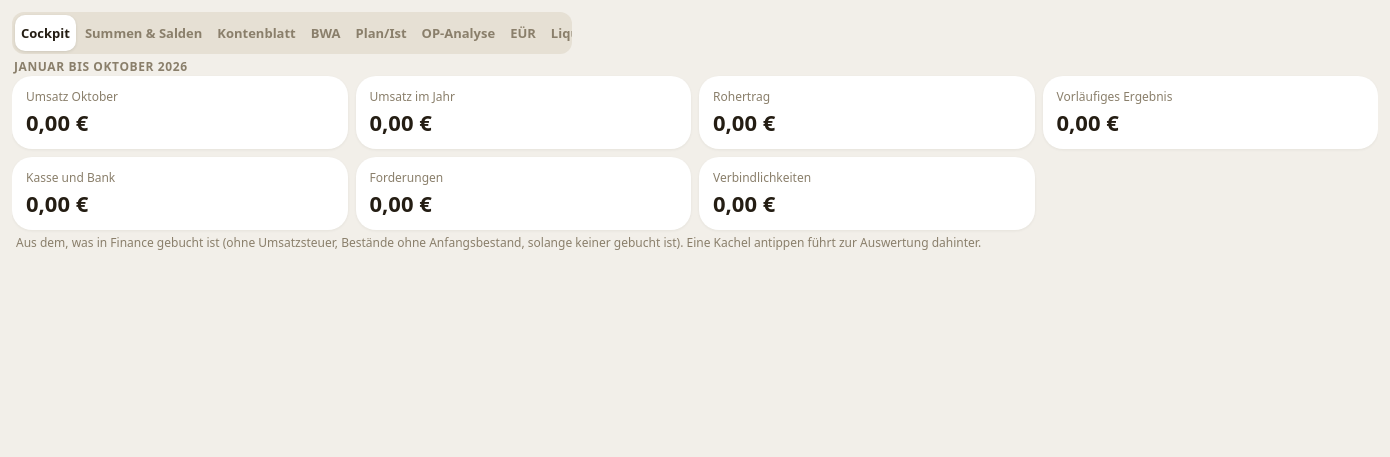
FinanceAuswertungen › mit Vorjahr: Werte und Abweichung
The width and height of the screenshot is (1390, 457).
Step 1. Click the tab "Summen & Salden" → (144, 33), box [79,15,208,51]
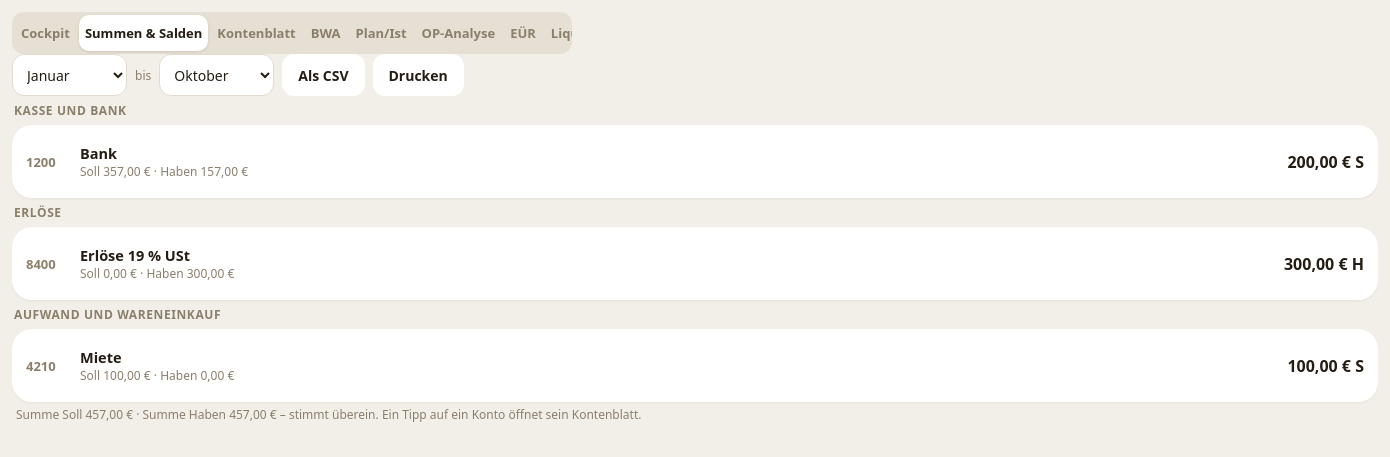
Result: the text "Erlöse 19 % USt" is shown at [80,245,190,265]
Step 2. Click the tab "BWA" → (326, 33), box [305,15,346,51]
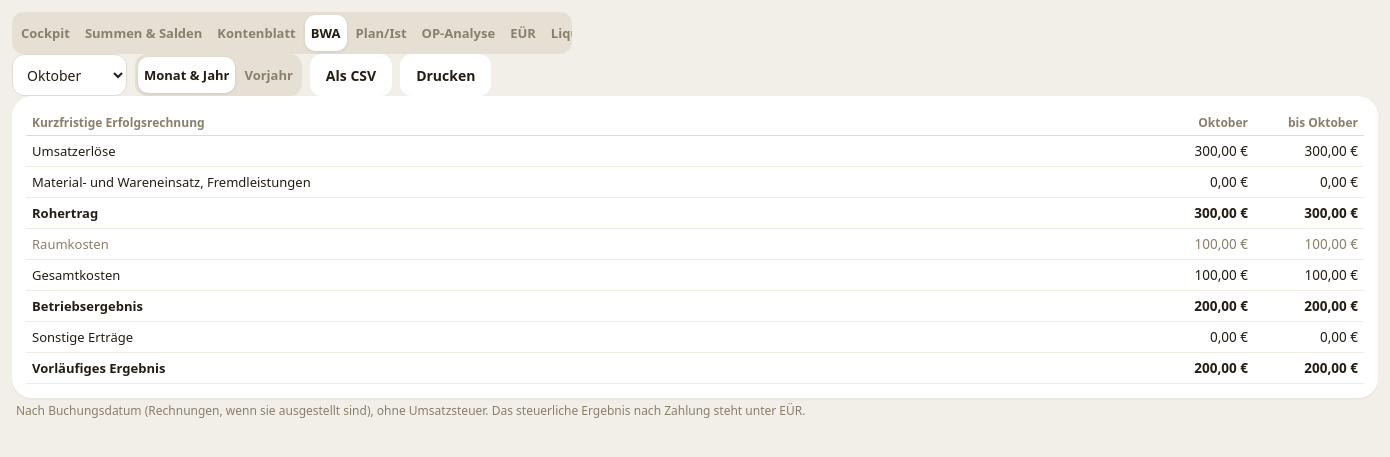
Step 3. Click the button "Vorjahr" → (269, 75), box [238,57,299,93]
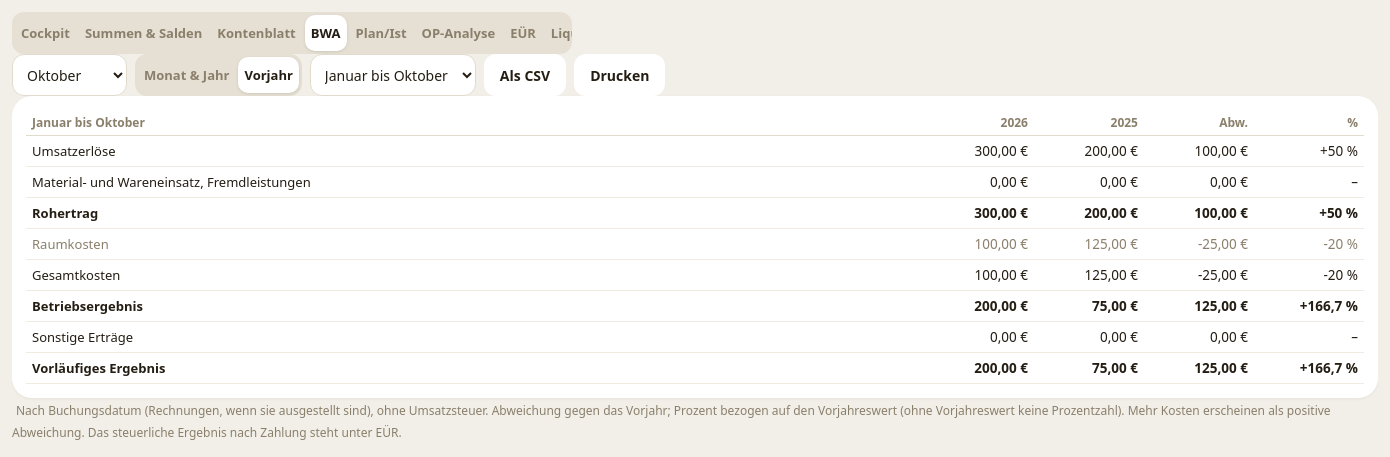
Result: the text "Umsatzerlöse" reads "Umsatzerlöse 300,00 € 200,00 € 100,00 € +50 %" at [26,136,1364,166]
Result: the text "Betriebsergebnis" reads "Betriebsergebnis 200,00 € 75,00 € 125,00 € +166,7 %" at [26,290,1364,322]
Step 4. Select "nur Oktober" in the dropdown named "Zeitraum des Vergleichs" → (393, 75), box [310,54,476,96]
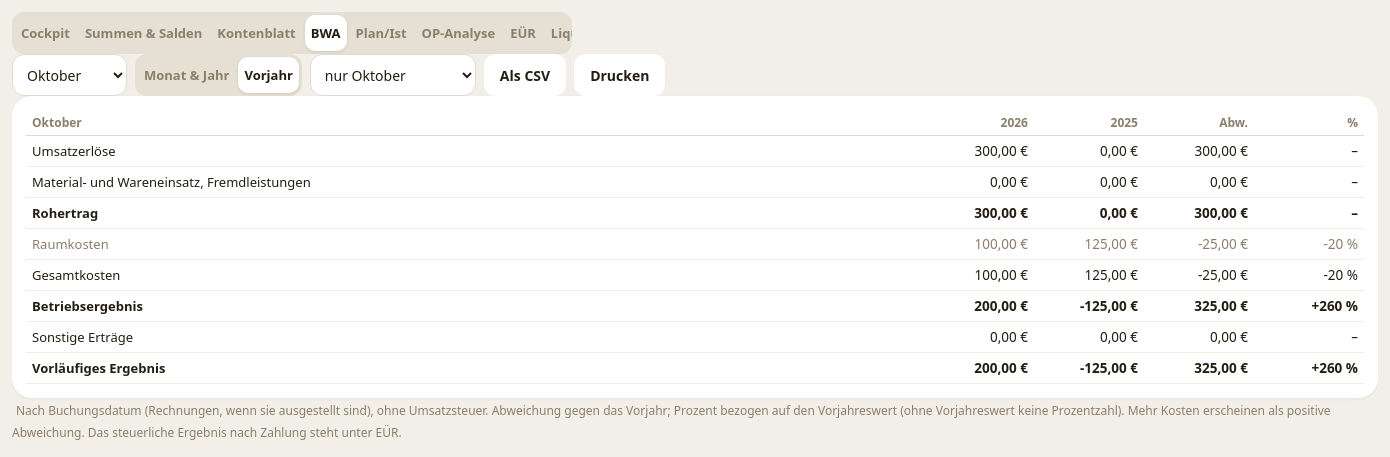
Result: the text "Umsatzerlöse" reads "Umsatzerlöse 300,00 € 0,00 € 300,00 € –" at [26,136,1364,166]
